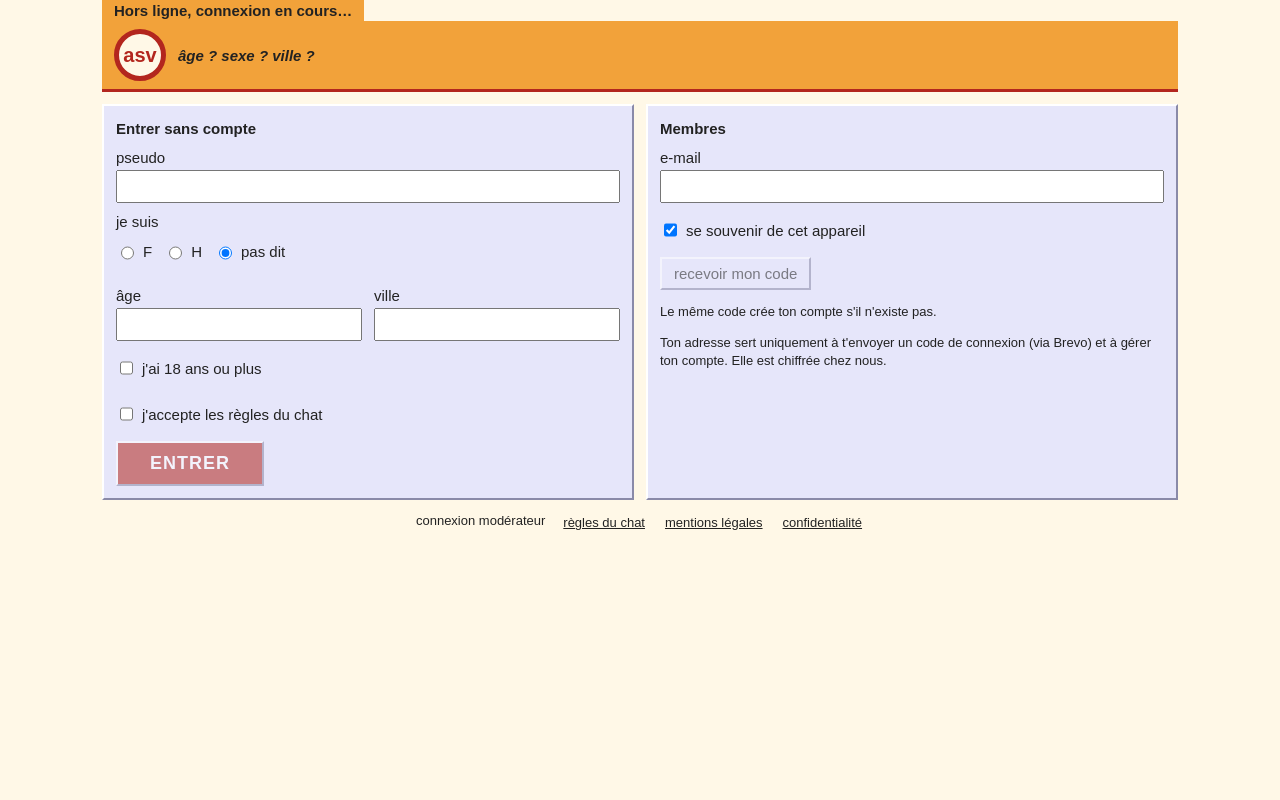
Test: legal pages (ADR-0018) › shows the privacy page with placeholders when /api/legal fails
The width and height of the screenshot is (1280, 800).
Step 1. Click the button "confidentialité" → (822,523), box [780,512,864,534]
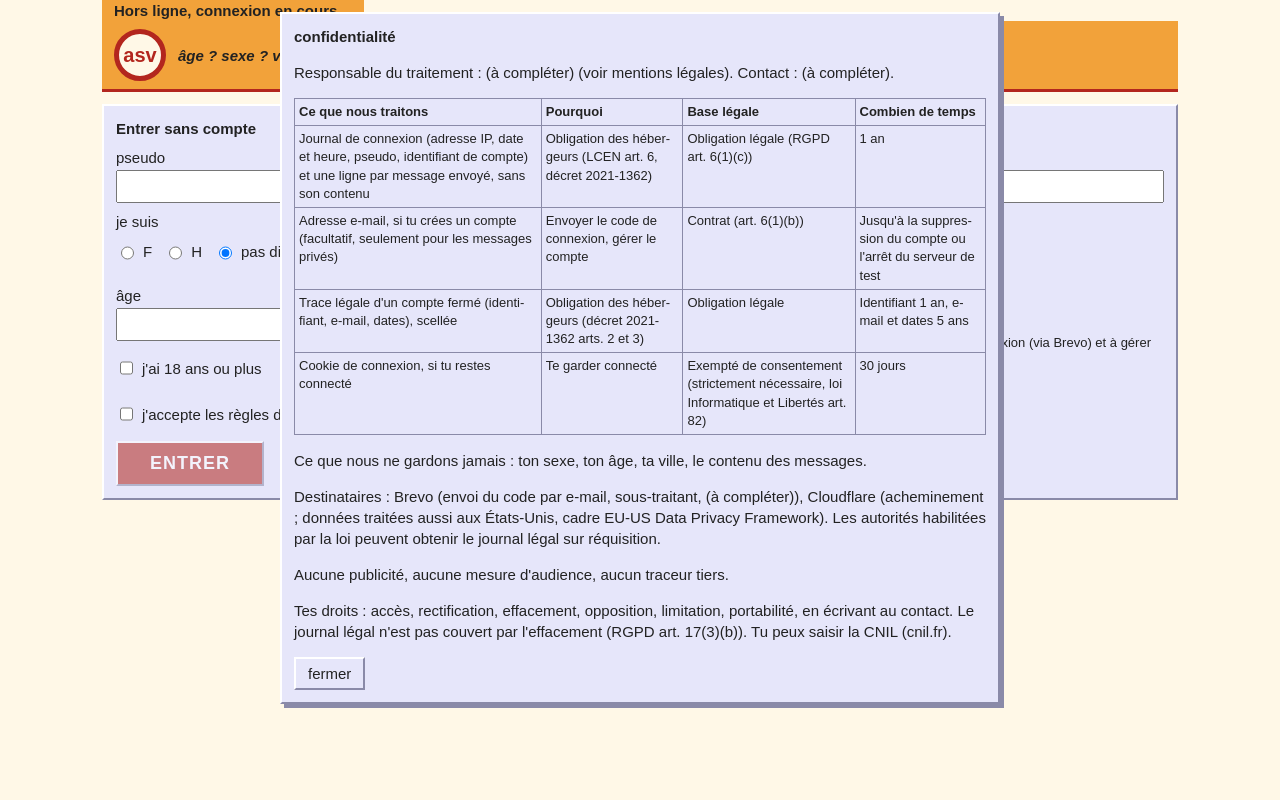
Now the text "(à compléter)" is shown, box [486,64,574,81]
Now the table is shown, box [294,98,986,435]
